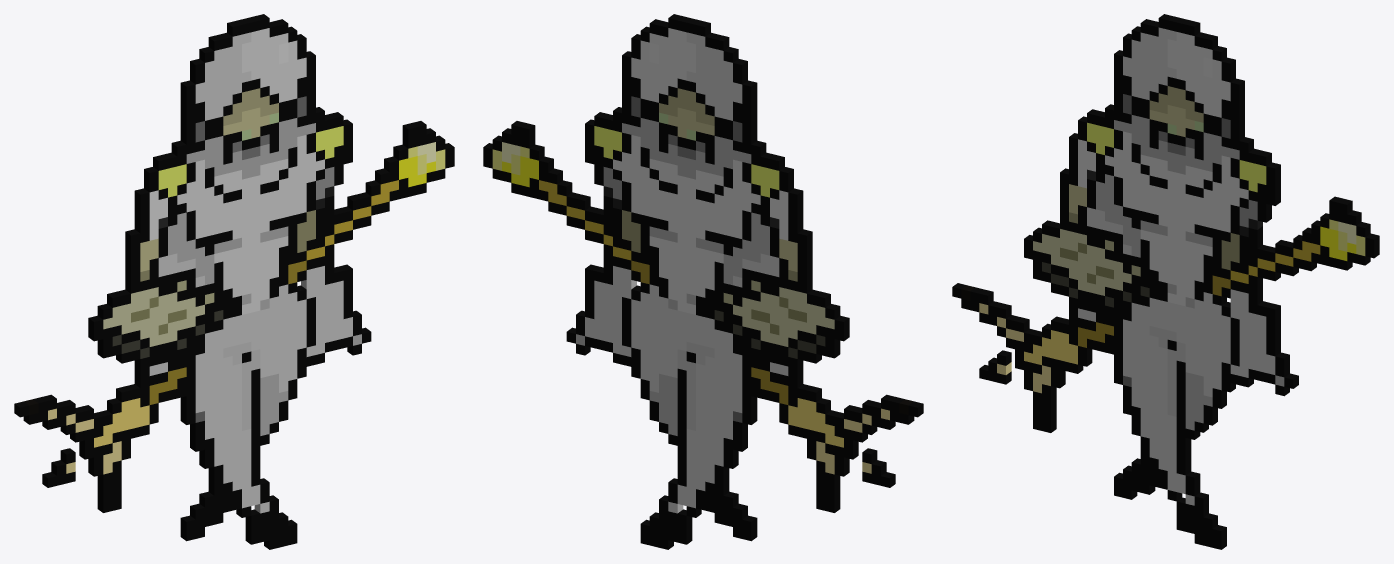
Rendered from Cleric.fbx.
3 views of the same model, side by side, from view 1: azimuth 30°, elevation 25°; view 2: azimuth 150°, elevation 25°; view 3: azimuth 330°, elevation 25° (orthographic). The views are drawn at different scales.
Visible parts, largest first — view 1: Curve.001; view 2: Curve.001; view 3: Curve.001.
Part boxes in pixels (<box>): Curve.001: <box>14,14,454,549</box>; Curve.001: <box>483,14,923,549</box>; Curve.001: <box>952,14,1379,549</box>.
Size of the model in its own units: 39.79 by 46.56 by 0.9.
